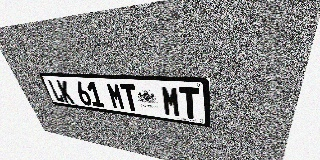1: (85, 82, 105, 108)
6: (74, 81, 93, 106)
K: (56, 80, 75, 104)
L: (47, 80, 65, 103)
M: (161, 86, 181, 117), (106, 83, 126, 110)
T: (179, 87, 200, 120), (120, 84, 140, 112)
